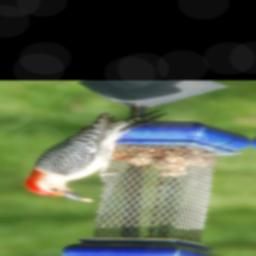Woodpecker: (22, 102, 176, 208)
